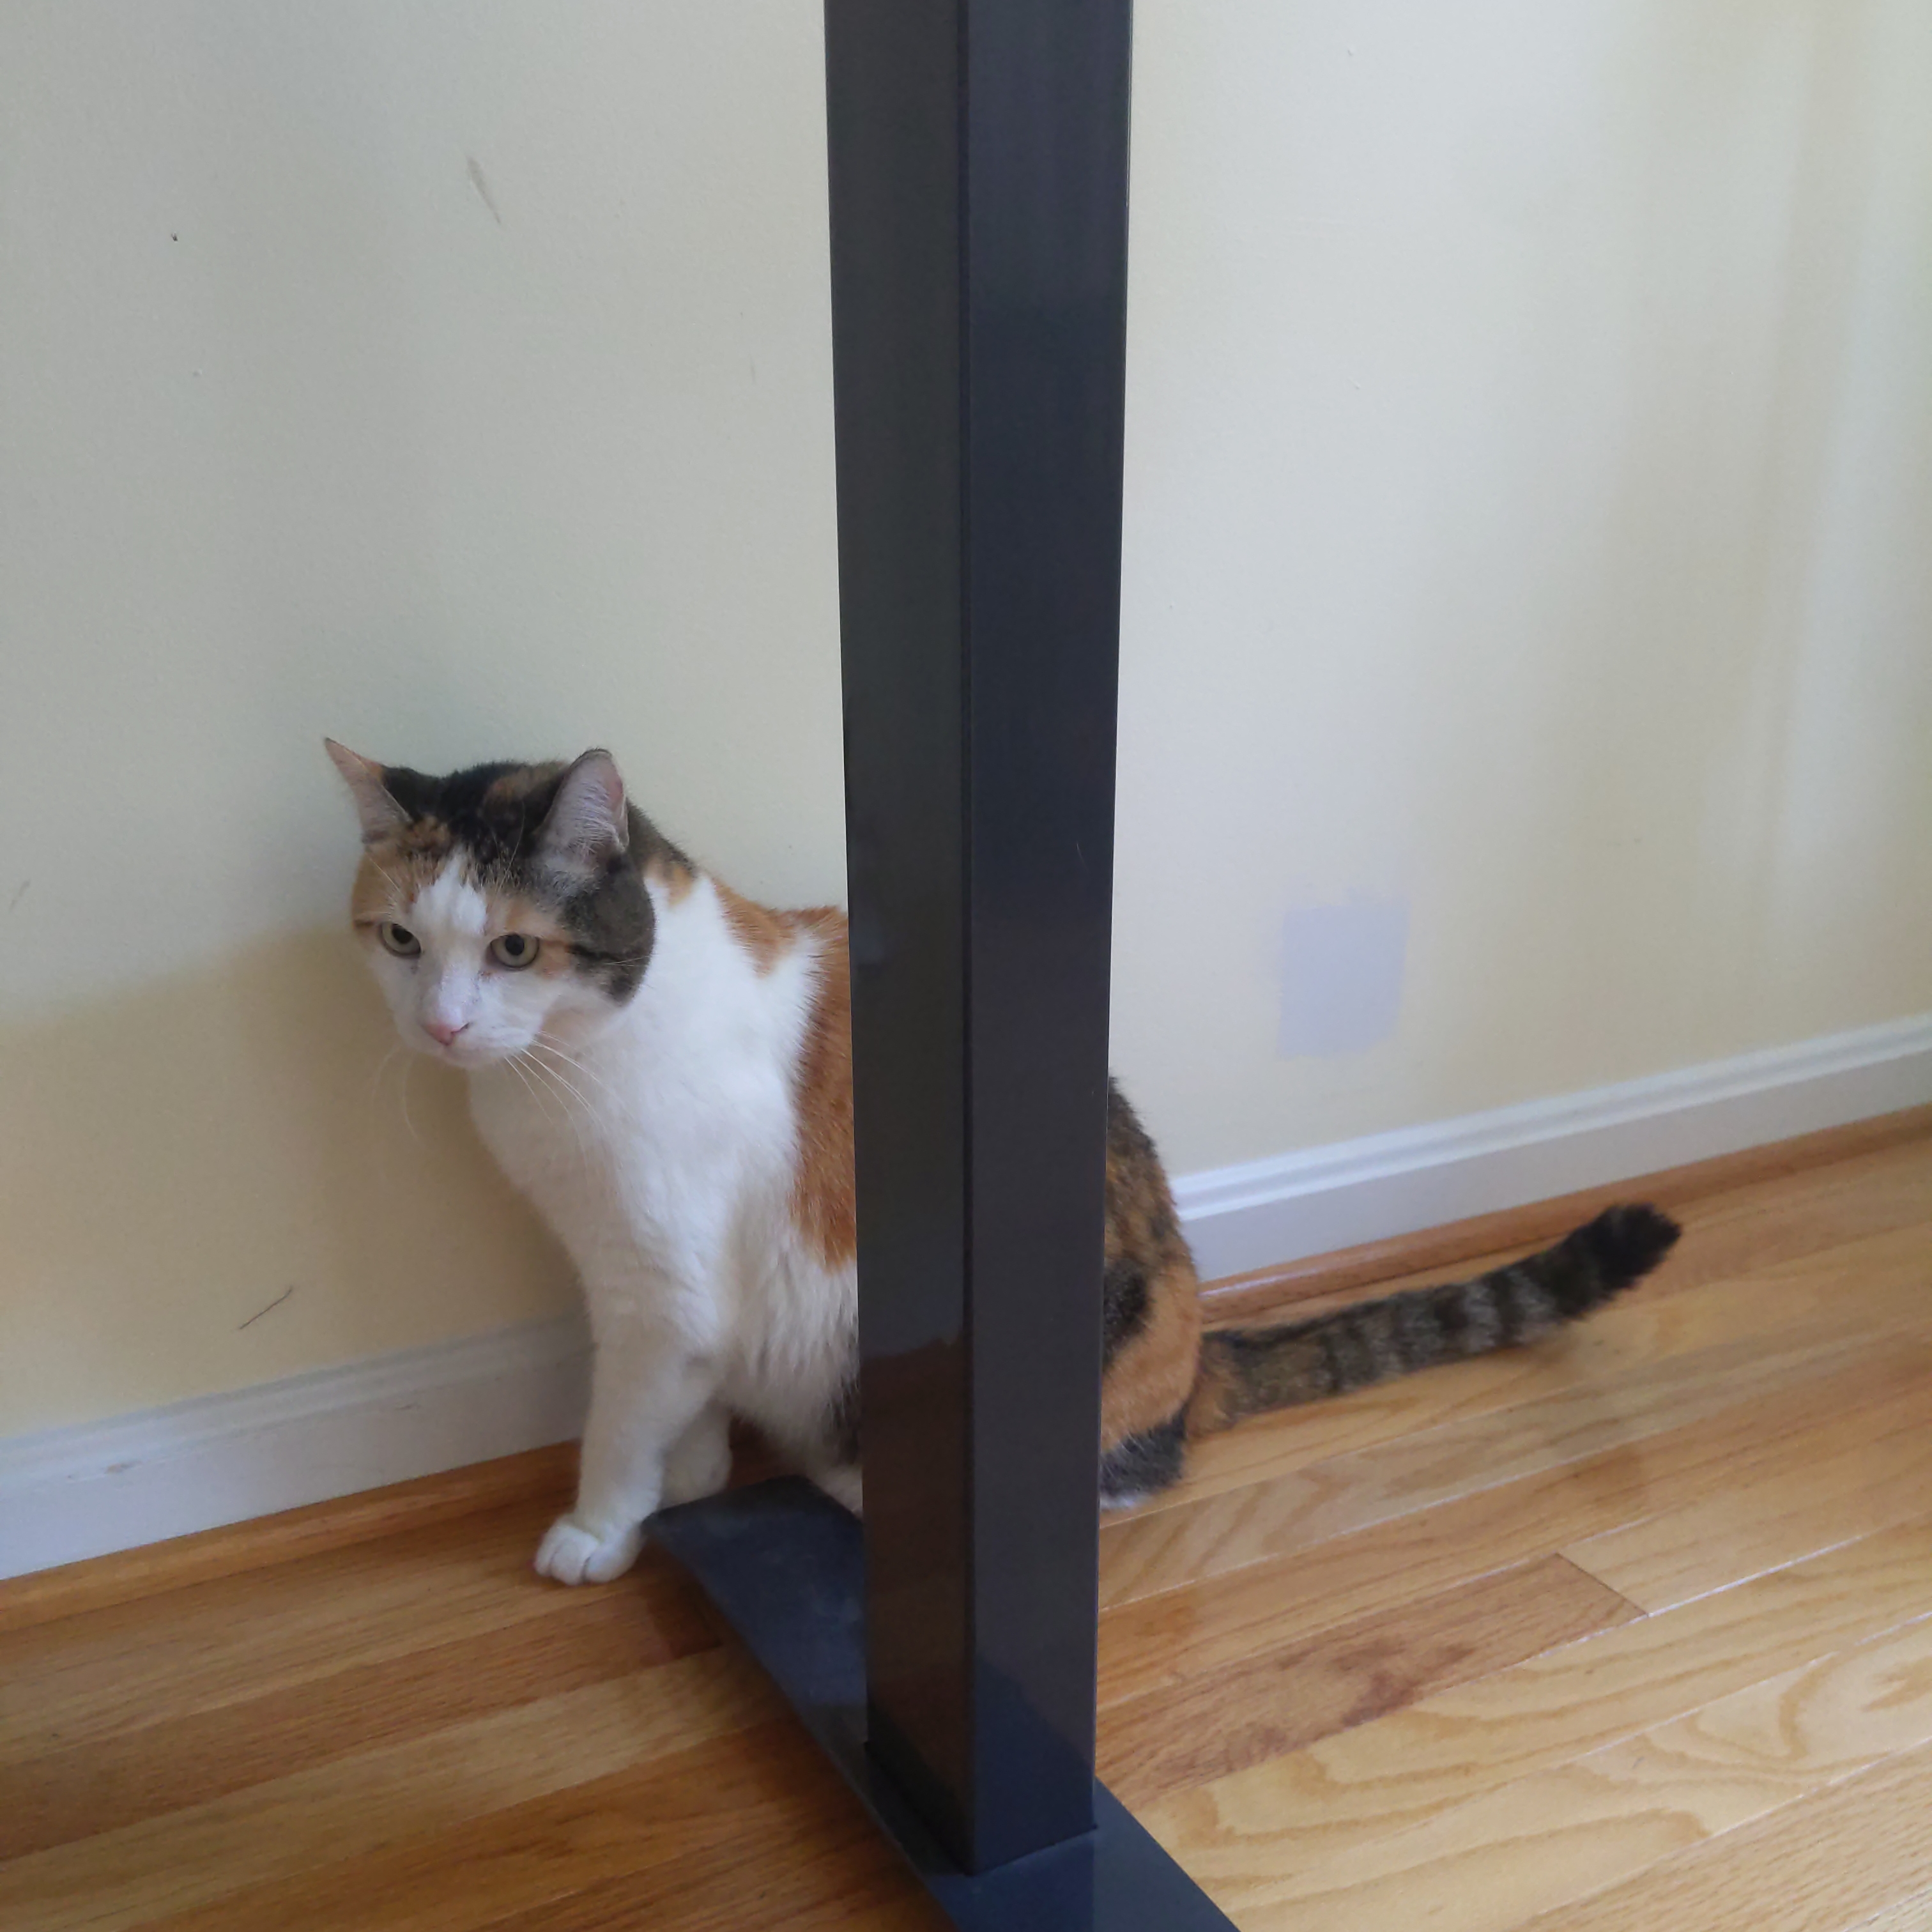Calico: (322, 731, 1684, 1585)
